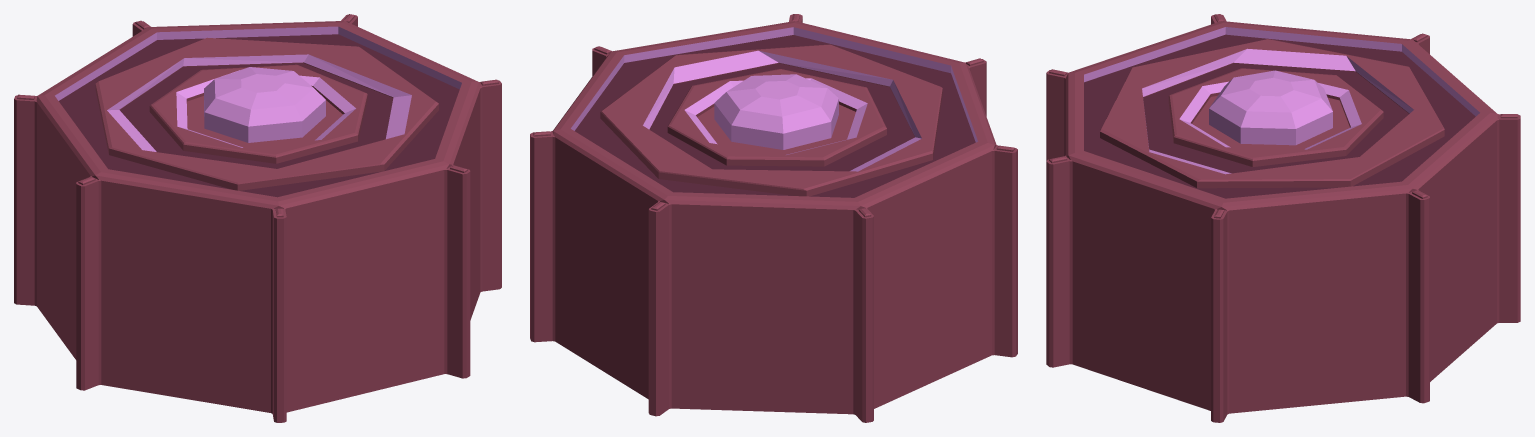
Rendered from reidite_wall.fbx.
The picture shows the model from 3 angles, left to right: view 1: azimuth 30°, elevation 25°; view 2: azimuth 150°, elevation 25°; view 3: azimuth 270°, elevation 25°; orthographic projection.
Visible parts, largest first — view 1: reidite_wall_body; view 2: reidite_wall_body; view 3: reidite_wall_body.
Part boxes in pixels (<box>): reidite_wall_body: <box>14,14,501,422</box>; reidite_wall_body: <box>530,14,1017,422</box>; reidite_wall_body: <box>1046,14,1520,422</box>.
Size of the model in its own units: 4.25 by 2.25 by 4.14.
1 material, 1 textured.
